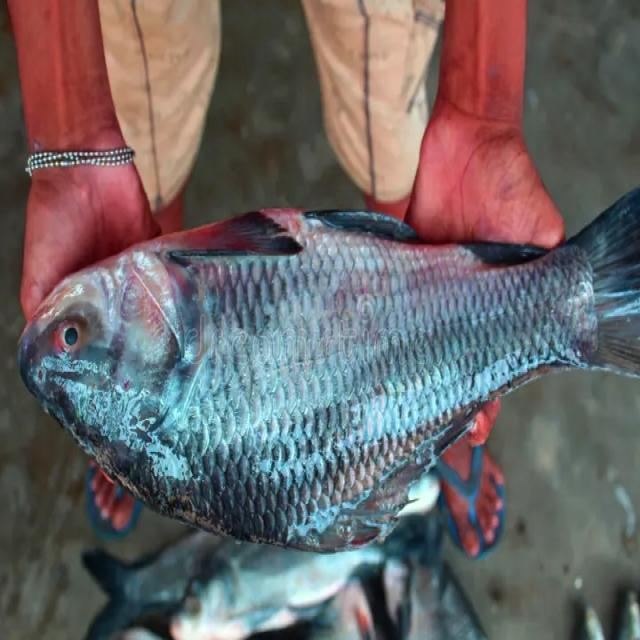Catla: (17, 185, 640, 553)
